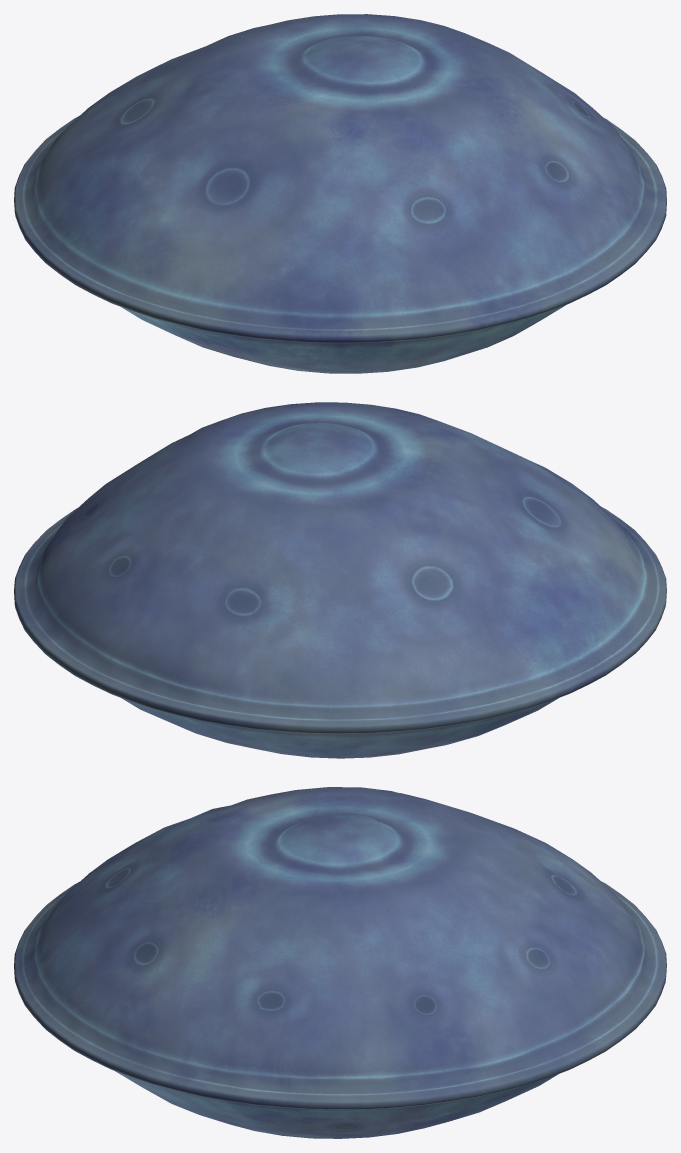
The model's file is handpan.glb.
3 renders of one model, top to bottom at view 1: azimuth 30°, elevation 25°; view 2: azimuth 150°, elevation 25°; view 3: azimuth 270°, elevation 25°, orthographic.
Parts seen in each view (by area): view 1: g; view 2: g; view 3: g.
Part boxes in pixels (x1,y1,x2,y2): g: (14, 14, 666, 373); g: (14, 402, 666, 758); g: (14, 787, 666, 1138).
Size of the model in its own units: 2 by 0.9153 by 2.
1 material, 1 textured.
